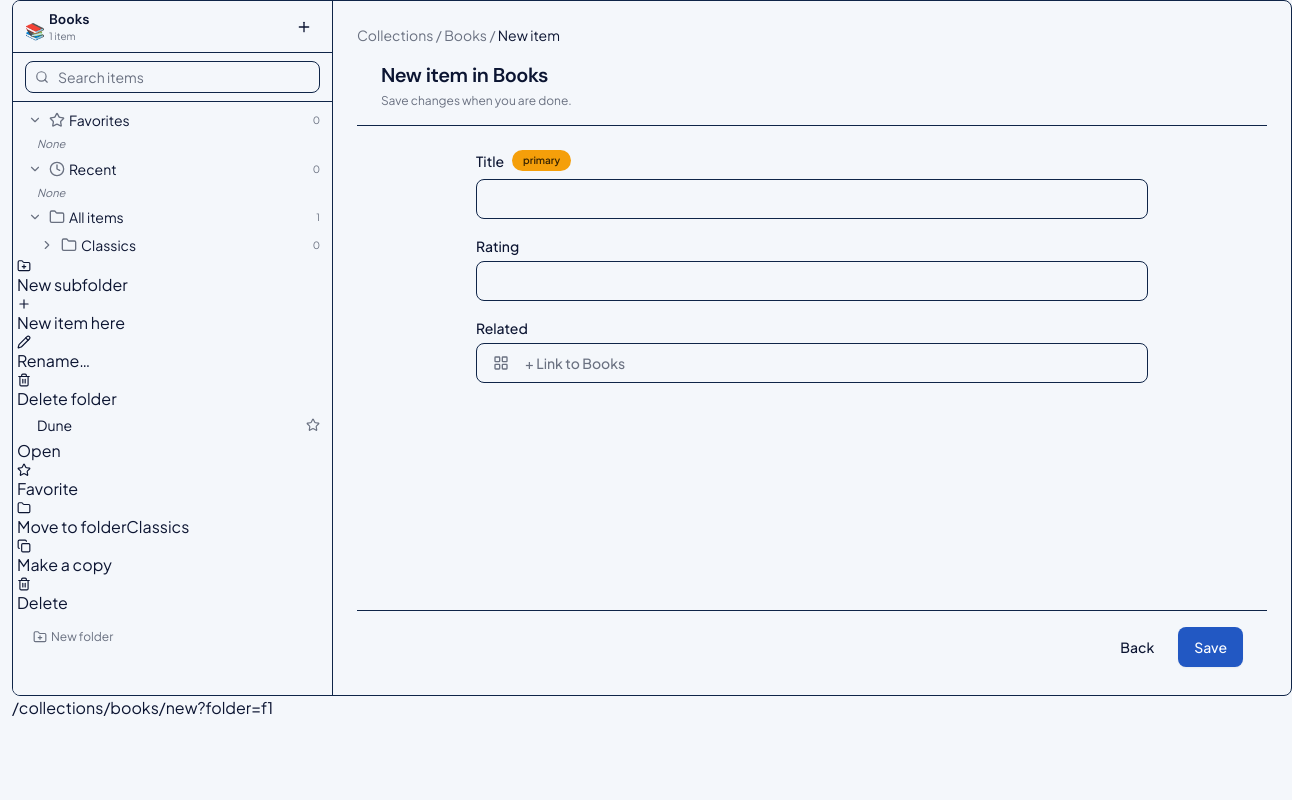
Scenario: CollectionDetail › creates one item when Ctrl+Enter is pressed twice, in the folder it was started from
Note: The folder list loads with the tree.
Type "Neuromancer" into the 2nd field at point(812, 199), box [476,179,1148,219]
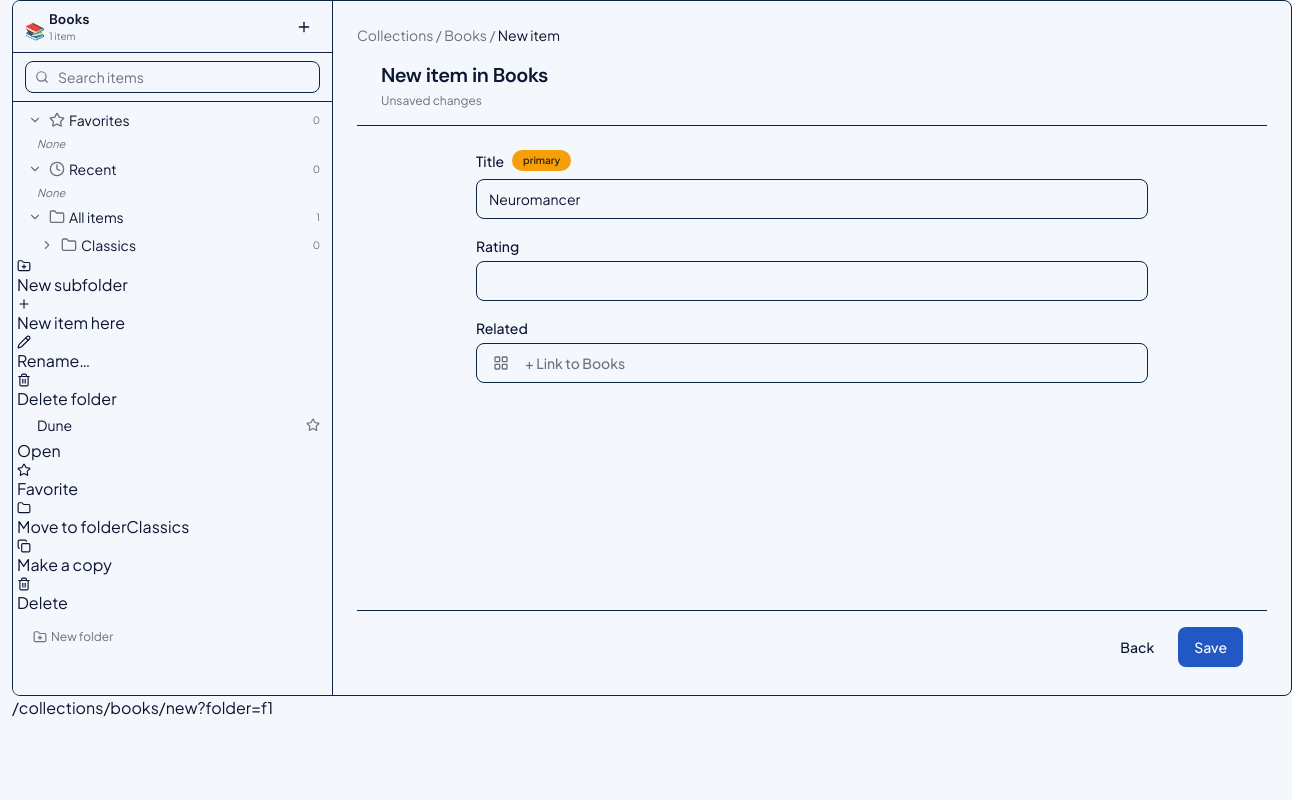
Press Enter
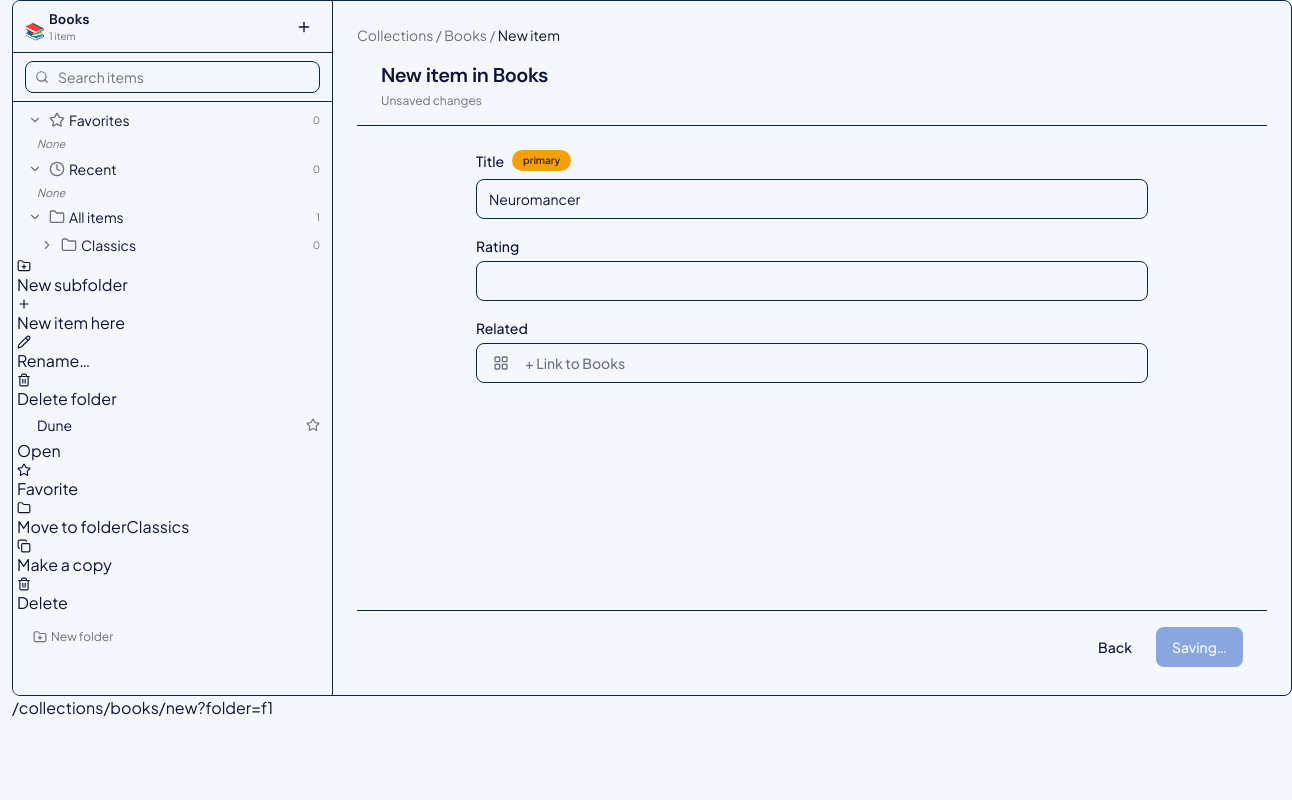
Press Enter
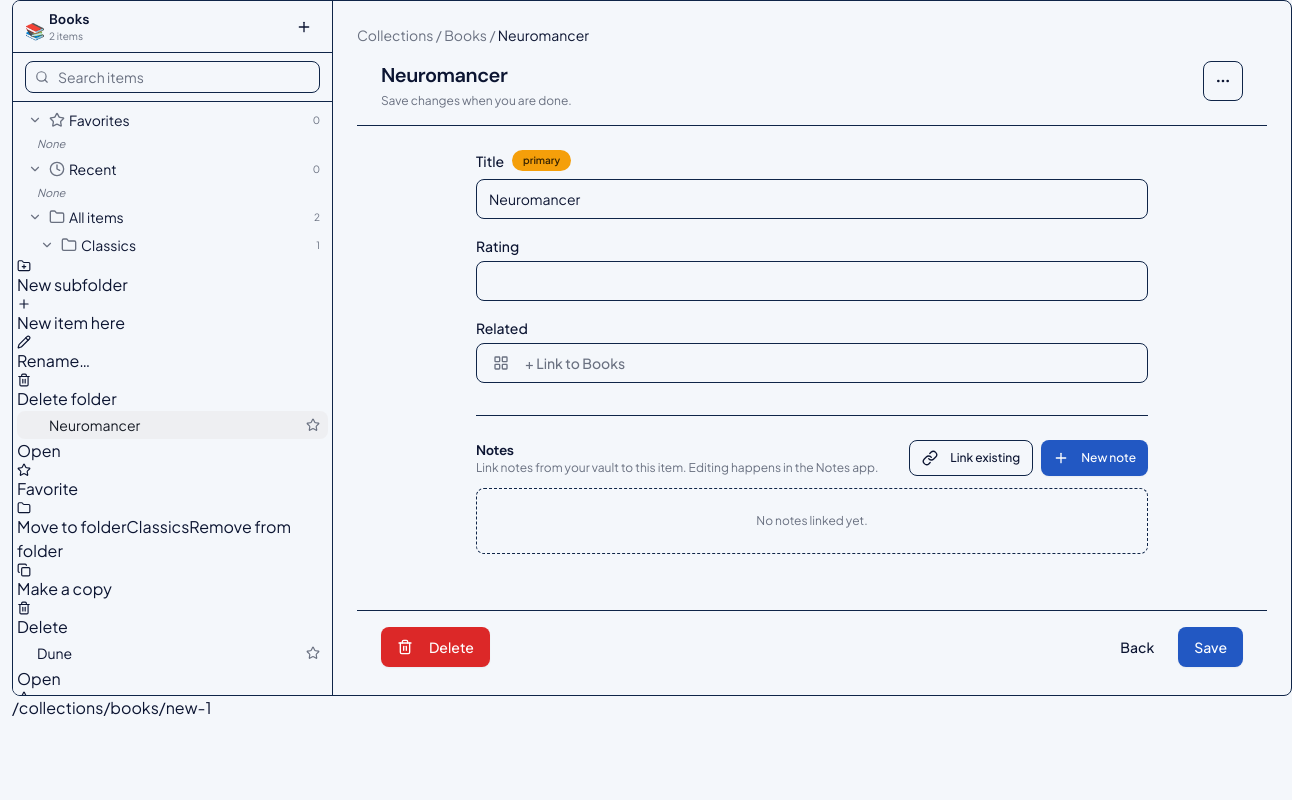
expect the text with test id "location" reads "/collections/books/new-1": met, box [12,697,211,718]
